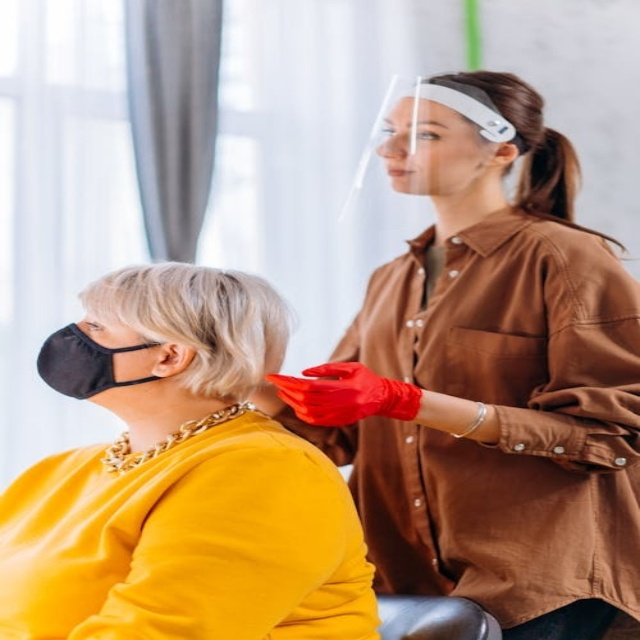Guantes: (265, 361, 421, 426)
Mascara: (29, 321, 173, 400)
Sin_gafas: (376, 115, 465, 146), (69, 310, 132, 341)
Sin_mascara: (378, 161, 443, 184)
